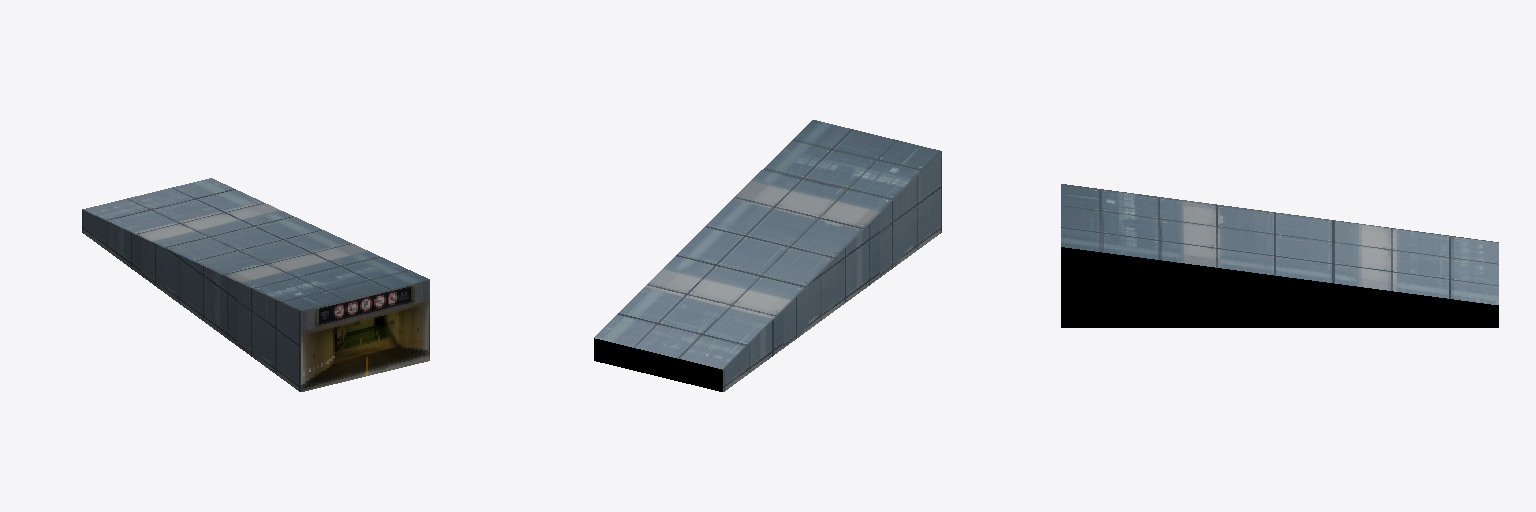
The picture shows the model from 3 angles: view 1: azimuth 30°, elevation 25°; view 2: azimuth 150°, elevation 25°; view 3: azimuth 270°, elevation 25°; orthographic projection.
Parts seen in each view (by area): view 1: Box001; view 2: Box001; view 3: Box001.
Part boxes in pixels (x1,y1,x2,y2): Box001: (82,178,429,391); Box001: (594,120,941,391); Box001: (1061,184,1498,327).
Bounding box in the file's own units: 4 × 2.4 × 11.69.
Materials: 1 (1 with a texture image).